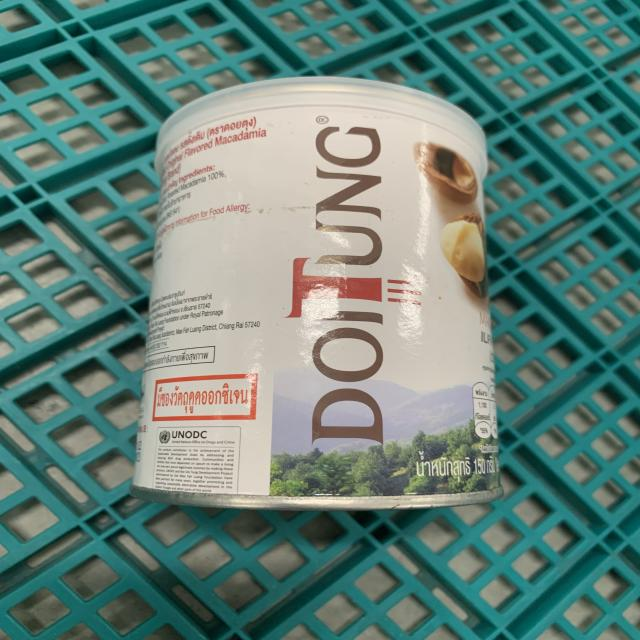object_name: (153, 92, 500, 501)
